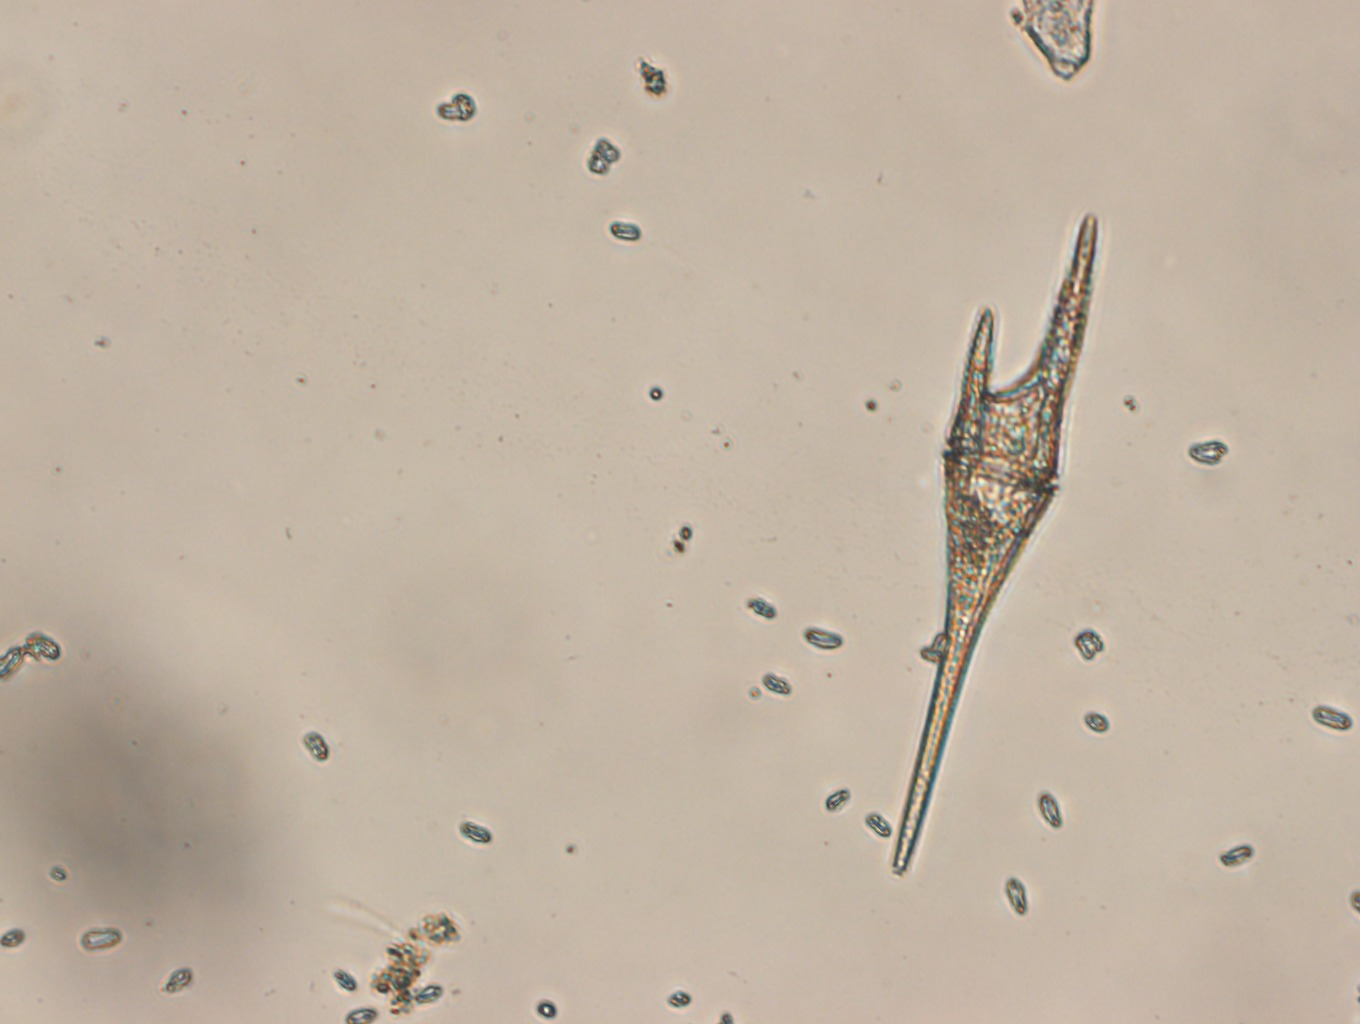ceratium furca: (891, 207, 1101, 881)
